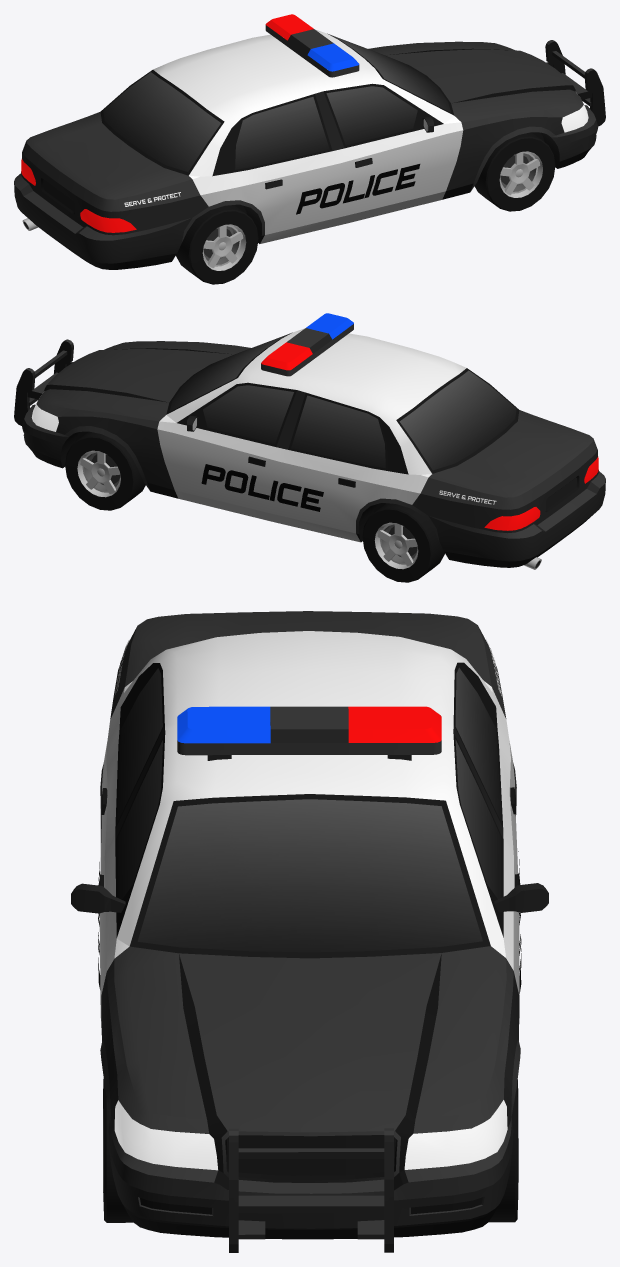
File: Emergency_025.glb
3 views of the same model, one above another, from view 1: azimuth 30°, elevation 25°; view 2: azimuth 150°, elevation 25°; view 3: azimuth 270°, elevation 25° (orthographic). The views are drawn at different scales.
Parts seen in each view (by area): view 1: Emergency_025, wheel_3_Emergency_025_Wheel_3R, wheel_0_Emergency_025_Wheel_1R; view 2: Emergency_025, wheel_2_Emergency_025_Wheel_3L, wheel_1_Emergency_025_Wheel_2L; view 3: Emergency_025, wheel_0_Emergency_025_Wheel_1R, wheel_1_Emergency_025_Wheel_2L.
Part boxes in pixels (x1,y1,x2,y2): Emergency_025: (14, 14, 605, 269); wheel_3_Emergency_025_Wheel_3R: (176, 205, 258, 284); wheel_0_Emergency_025_Wheel_1R: (474, 132, 555, 211); Emergency_025: (14, 313, 605, 569); wheel_2_Emergency_025_Wheel_3L: (362, 503, 444, 582); wheel_1_Emergency_025_Wheel_2L: (65, 431, 145, 510); Emergency_025: (71, 611, 548, 1252); wheel_0_Emergency_025_Wheel_1R: (103, 1079, 133, 1222); wheel_1_Emergency_025_Wheel_2L: (489, 1079, 518, 1222).
Bounding box in the file's own units: 5.12 × 1.57 × 1.98.
3 materials, 3 textured.
